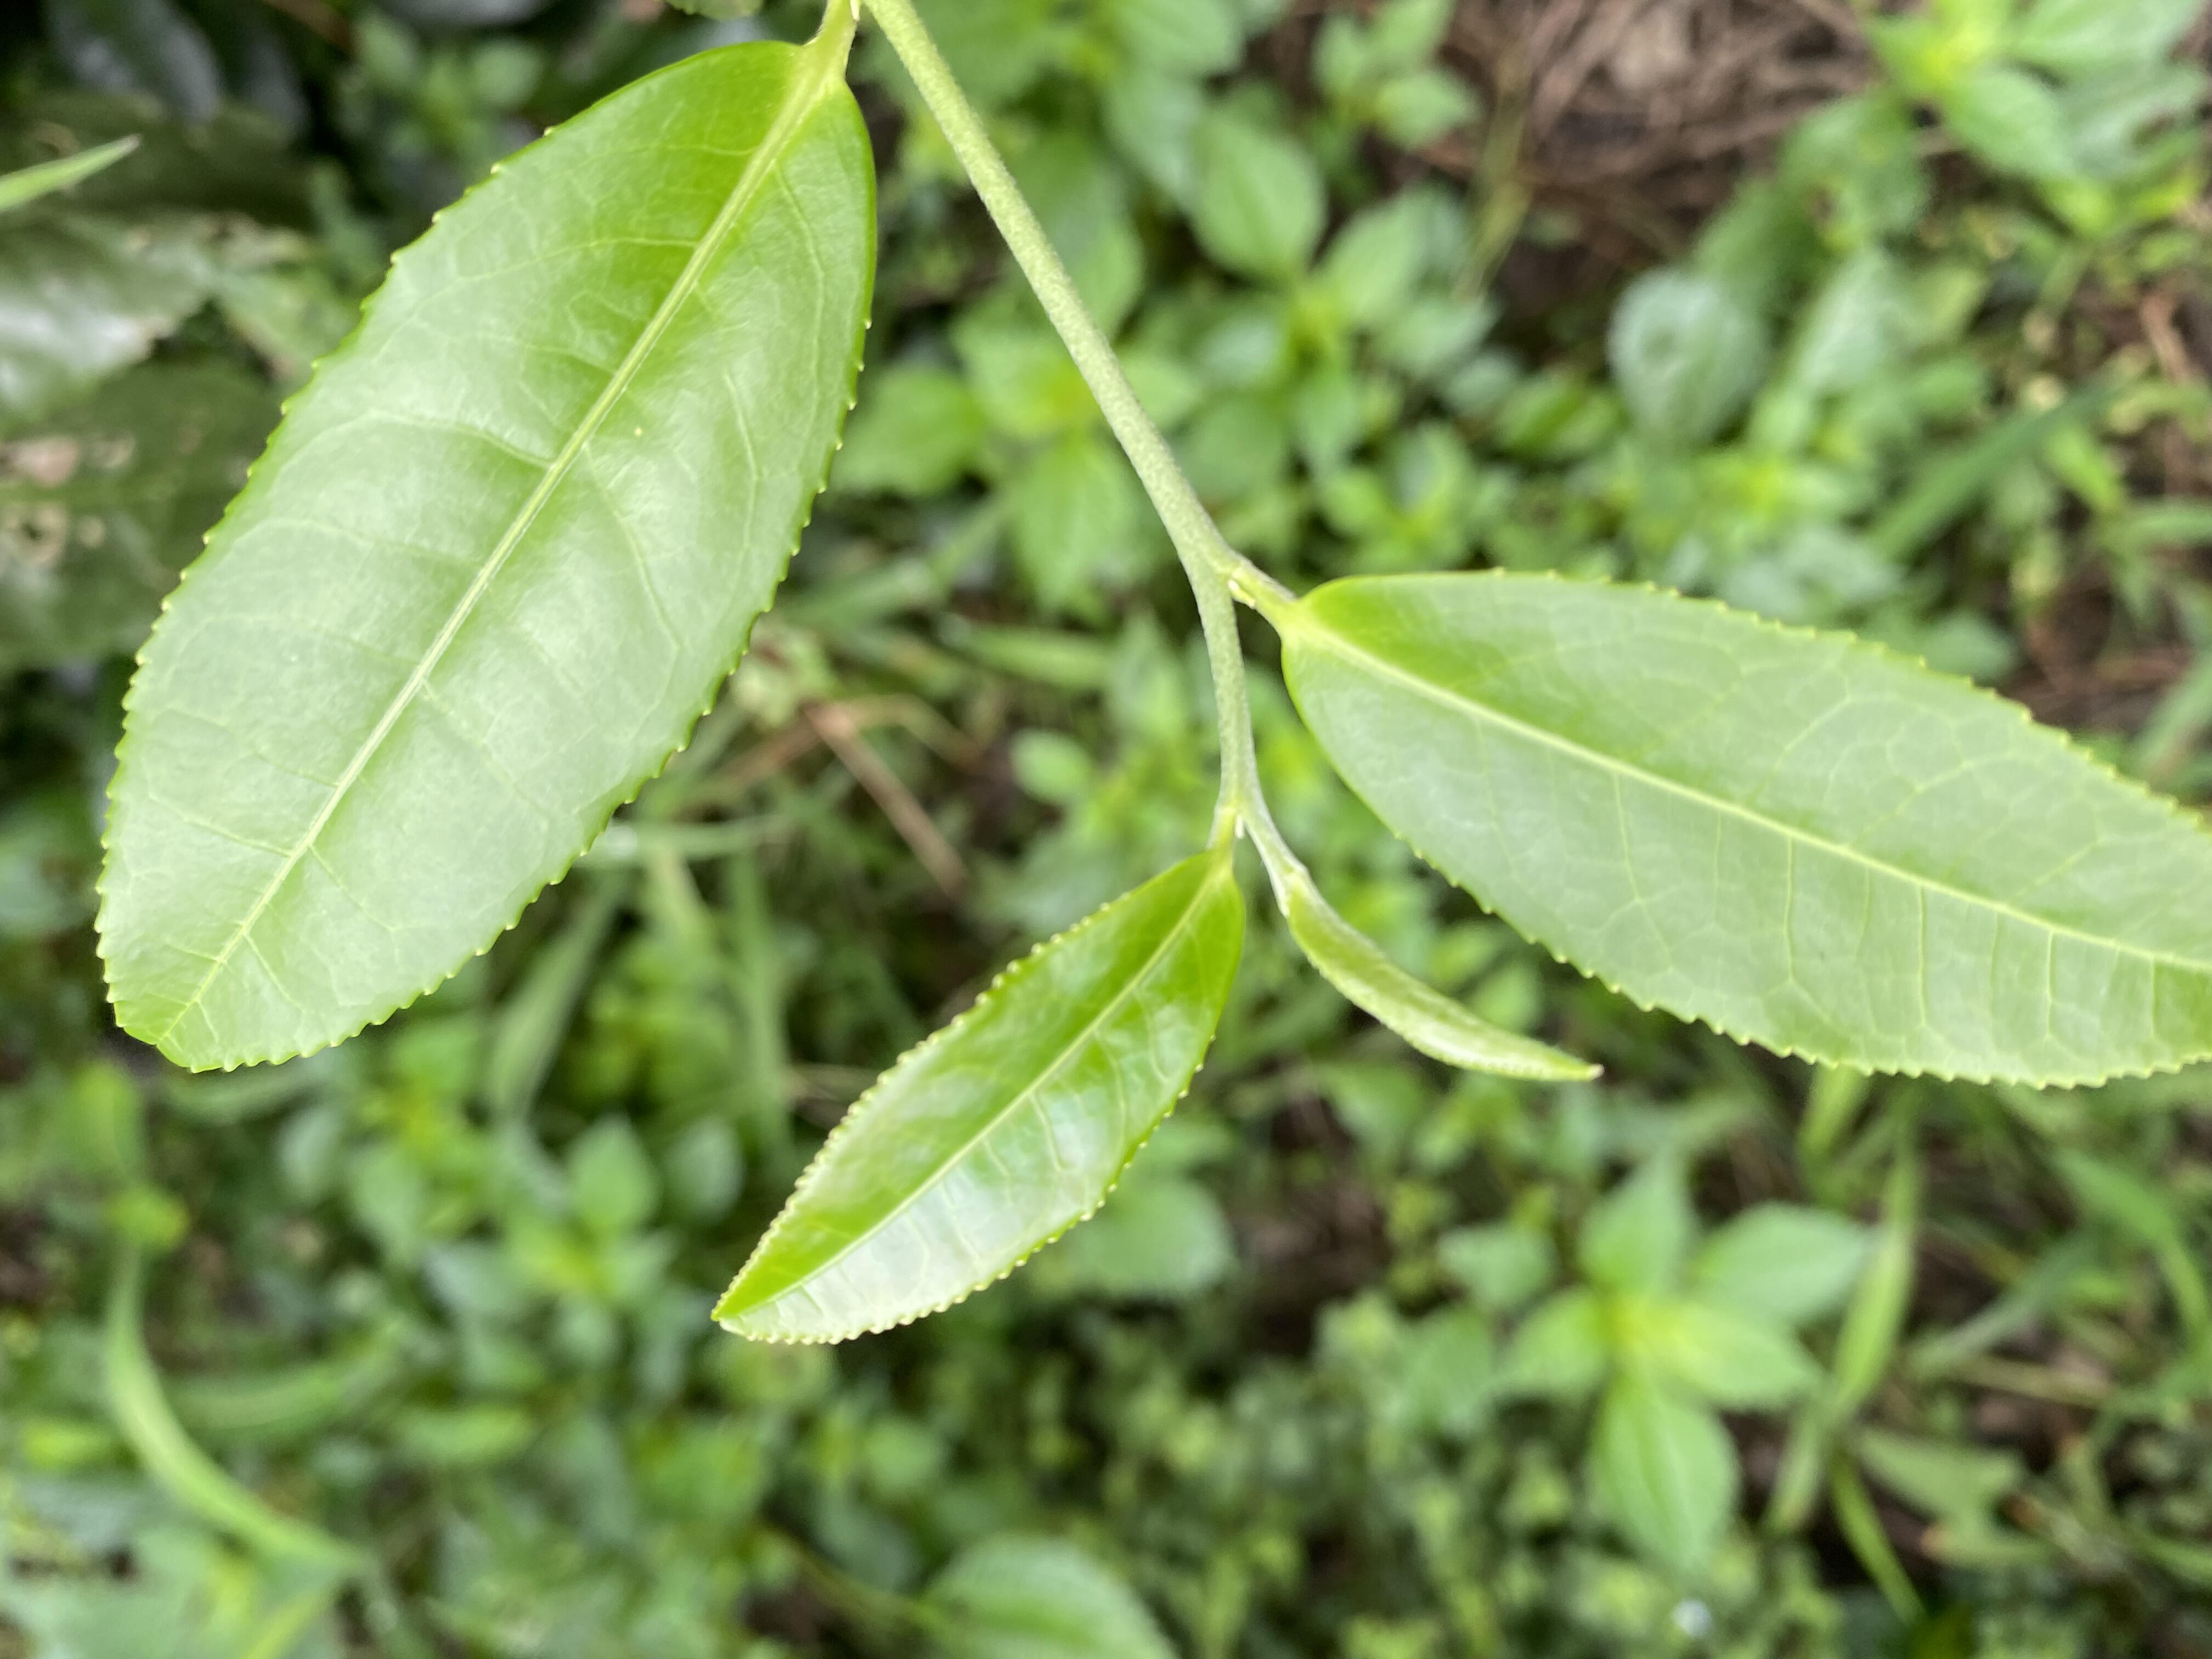healthy: (91, 38, 881, 1075), (1282, 568, 2210, 1093), (711, 857, 1249, 1347)
